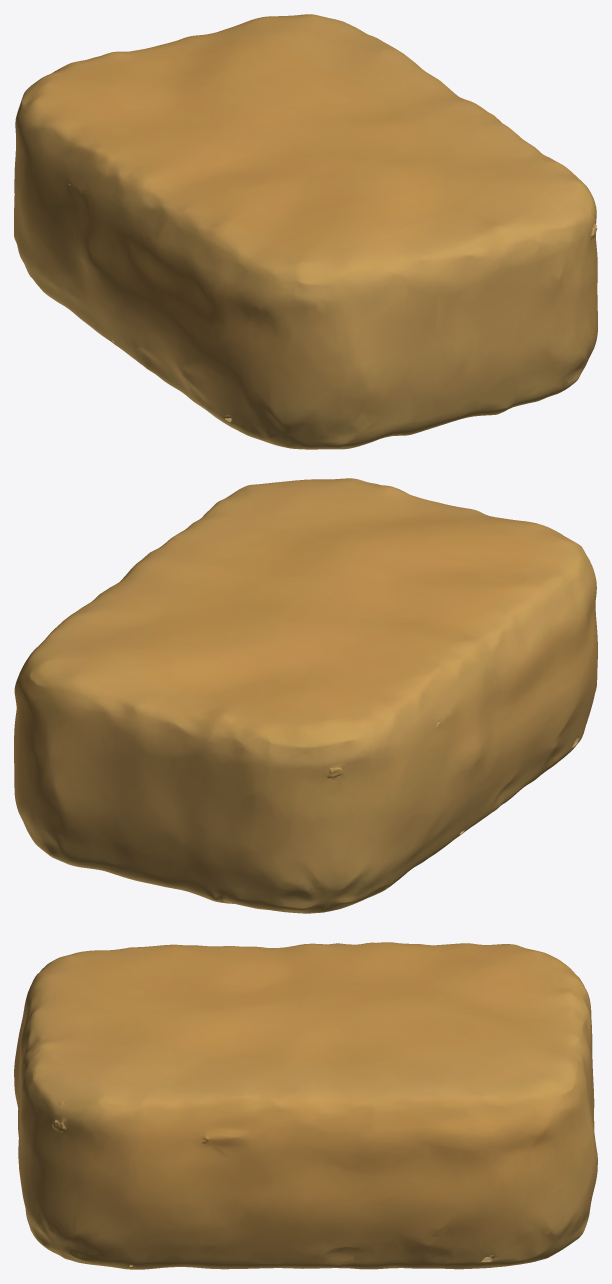
Rendered from pro-germany-hydro-grouting-sponge.glb.
3 views of the same model, one above another, from view 1: azimuth 30°, elevation 25°; view 2: azimuth 150°, elevation 25°; view 3: azimuth 270°, elevation 25° (orthographic). The views are drawn at different scales.
Visible parts, largest first — view 1: tripo_node_f3eb2f9e-b733-4eba-87bc-af8386c8096f; view 2: tripo_node_f3eb2f9e-b733-4eba-87bc-af8386c8096f; view 3: tripo_node_f3eb2f9e-b733-4eba-87bc-af8386c8096f.
Part boxes in pixels (x1,y1,x2,y2): tripo_node_f3eb2f9e-b733-4eba-87bc-af8386c8096f: (14,14,597,449); tripo_node_f3eb2f9e-b733-4eba-87bc-af8386c8096f: (14,478,597,913); tripo_node_f3eb2f9e-b733-4eba-87bc-af8386c8096f: (14,942,597,1269).
Size of the model in its own units: 0.726 by 0.3549 by 1.
1 material, 1 textured.
